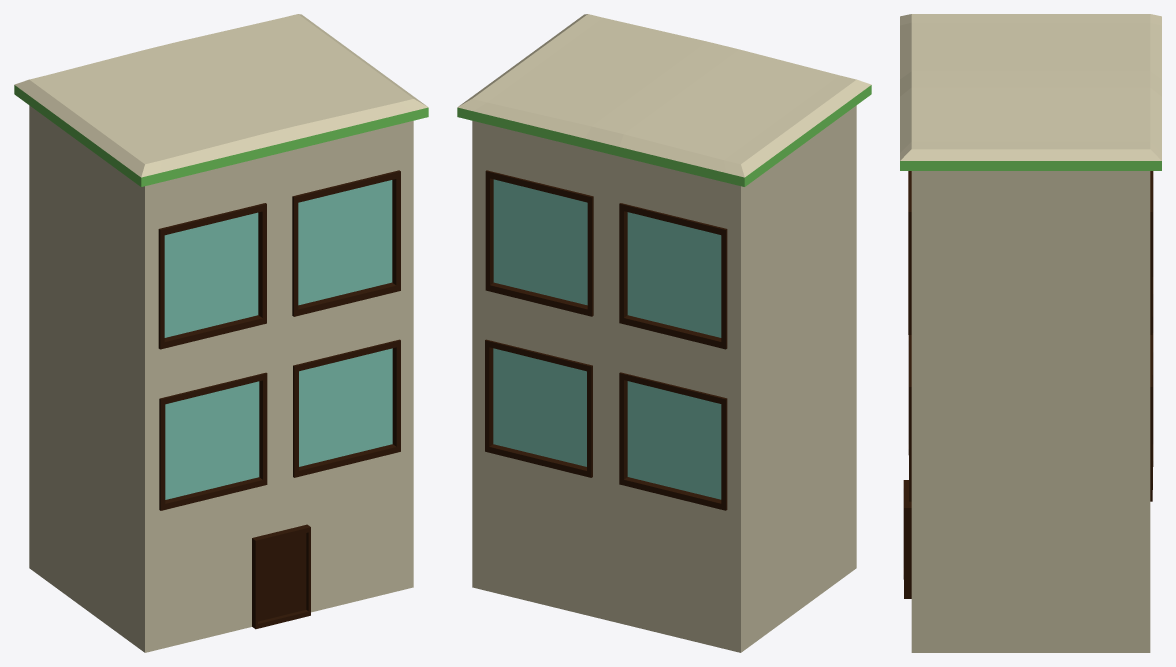
The model's file is apart3.fbx.
The picture shows the model from 3 angles, left to right: view 1: azimuth 30°, elevation 25°; view 2: azimuth 150°, elevation 25°; view 3: azimuth 270°, elevation 25°; orthographic projection. The views are drawn at different scales.
Parts seen in each view (by area): view 1: bina; view 2: bina; view 3: bina.
Part boxes in pixels (<box>): bina: <box>14,14,428,652</box>; bina: <box>457,14,871,652</box>; bina: <box>900,14,1161,652</box>.
Bounding box in the file's own units: 214 × 349 × 164.
